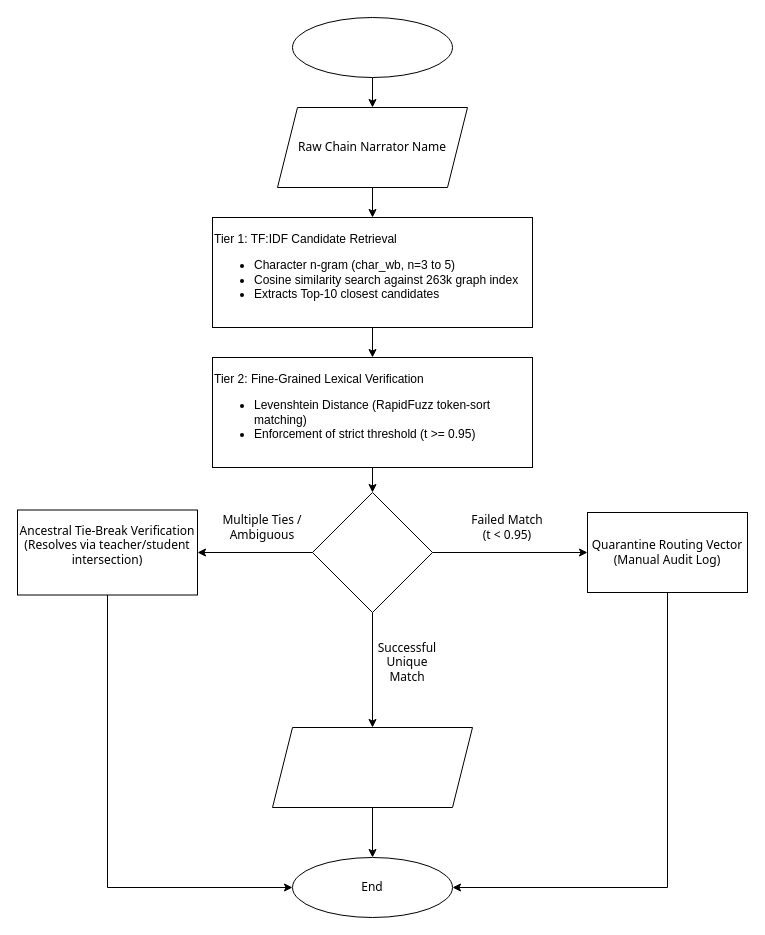
Some shapes in this 765 by 935 pixel diagram are drawn without their labels. Each missing label, with the centre of its shape:
"Aligning" goes at [372,552].
"SHA256 Text Hash Key Generation" goes at [372,767].
"Start" goes at [372,47].
